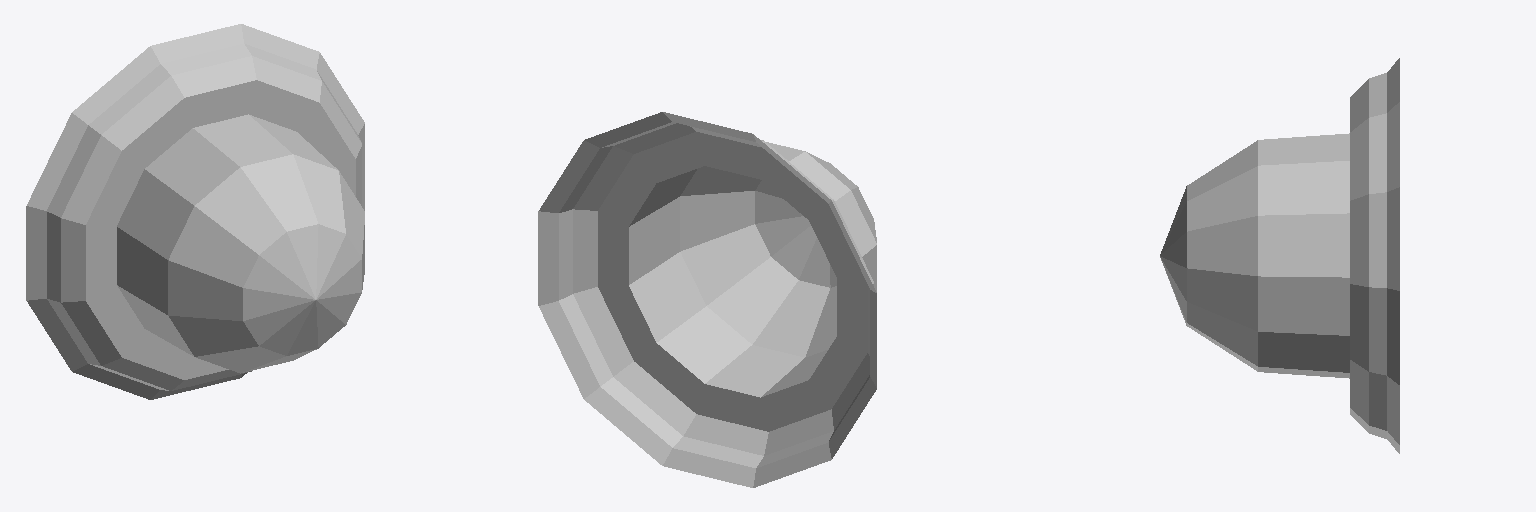
Rendered from original-100.obj.
3 renders of one model, left to right at view 1: azimuth 30°, elevation 25°; view 2: azimuth 150°, elevation 25°; view 3: azimuth 270°, elevation 25°, orthographic.
Visible parts, largest first — view 1: mesh34/mesh34-geometry#mesh34-geometry; view 2: mesh34/mesh34-geometry#mesh34-geometry; view 3: mesh34/mesh34-geometry#mesh34-geometry.
Boxes of the visible parts, x1=… form: mesh34/mesh34-geometry#mesh34-geometry: x1=26, y1=24, x2=364, y2=399; mesh34/mesh34-geometry#mesh34-geometry: x1=538, y1=112, x2=876, y2=487; mesh34/mesh34-geometry#mesh34-geometry: x1=1160, y1=58, x2=1399, y2=453.
Bounding box in the file's own units: 0.0178 × 0.0178 × 0.011.